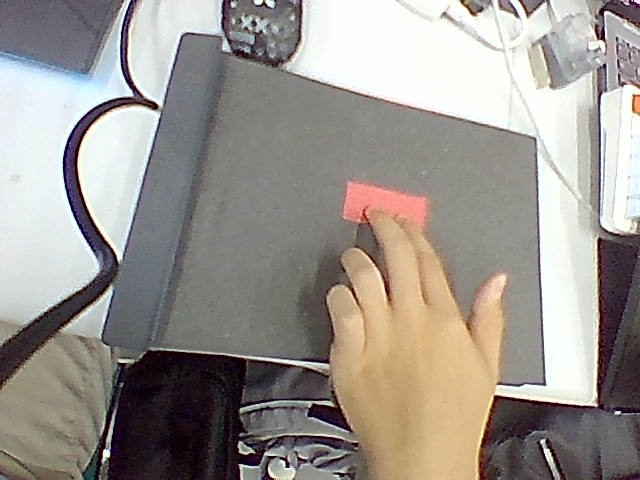card: (343, 181, 427, 225)
